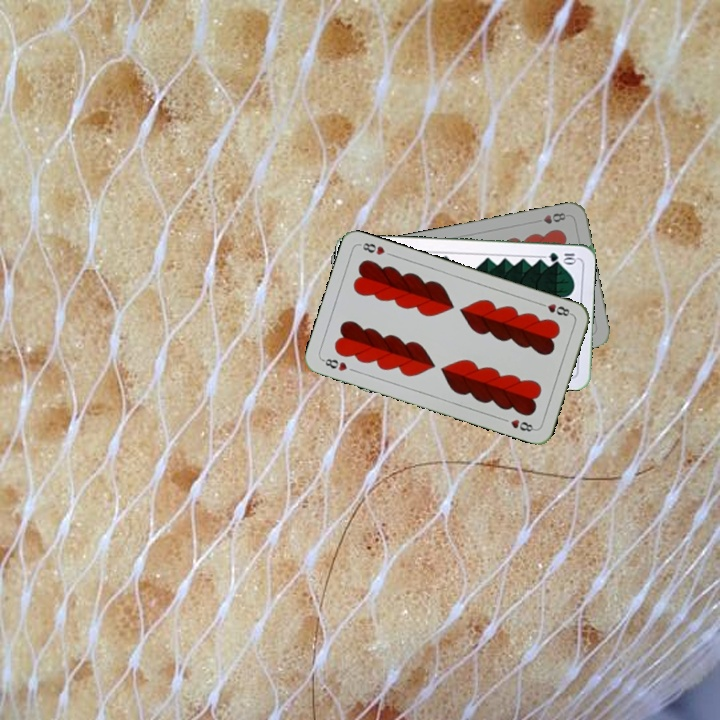G10: (544, 249, 579, 265)
H8: (535, 299, 575, 319), (318, 354, 350, 374), (539, 209, 571, 226)
